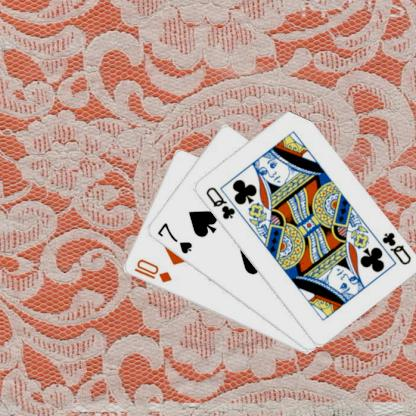10D: (131, 256, 173, 284)
7S: (154, 220, 194, 255)
QC: (202, 184, 236, 221), (378, 230, 412, 266)
